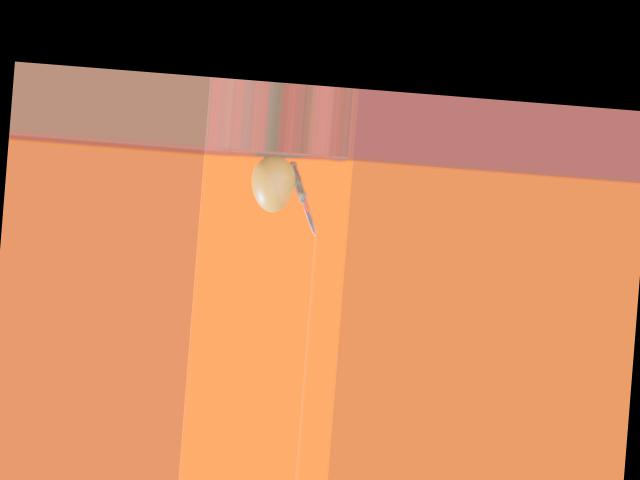egg: (250, 154, 297, 212)
